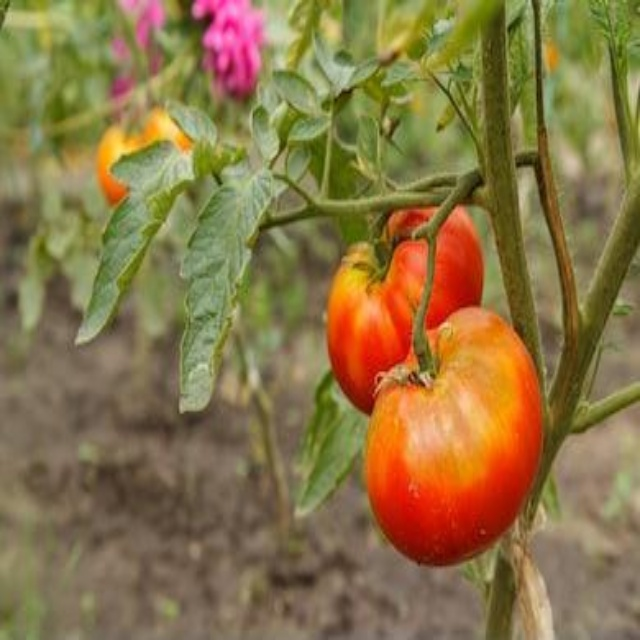tomato: (354, 322, 551, 558), (322, 195, 493, 412)
